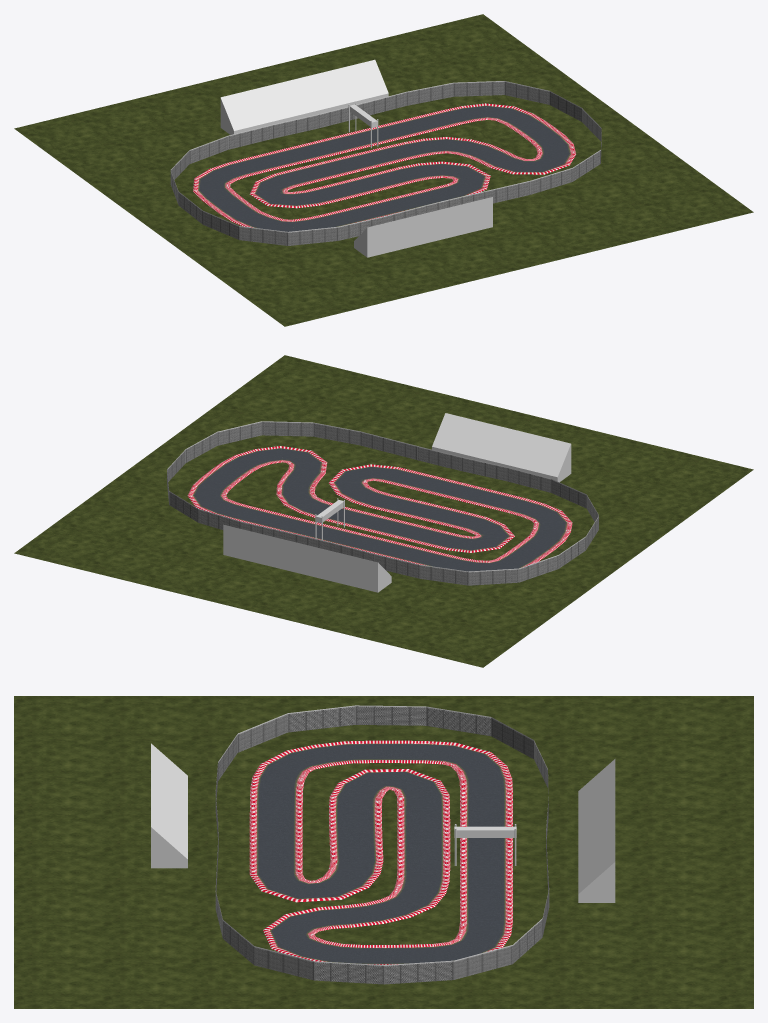
File: RaceTrack.fbx
The picture shows the model from 3 angles, top to bottom: view 1: azimuth 30°, elevation 25°; view 2: azimuth 150°, elevation 25°; view 3: azimuth 270°, elevation 25°; orthographic projection. The views are drawn at different scales.
Visible parts, largest first — view 1: Plane, Plane.001, Plane.002, Cube, Cube.001; view 2: Plane, Plane.001, Plane.002, Cube.001, Cube; view 3: Plane, Plane.001, Plane.002, Cube, Cube.001, Cube.002.
Part boxes in pixels (x1=…): Plane: x1=14, y1=14, x2=753, y2=326; Plane.001: x1=193, y1=103, x2=575, y2=231; Plane.002: x1=170, y1=81, x2=601, y2=245; Cube: x1=220, y1=59, x2=388, y2=134; Cube.001: x1=354, y1=197, x2=492, y2=257; Plane: x1=14, y1=355, x2=753, y2=667; Plane.001: x1=187, y1=446, x2=572, y2=571; Plane.002: x1=167, y1=421, x2=598, y2=585; Cube.001: x1=432, y1=413, x2=571, y2=482; Cube: x1=223, y1=524, x2=391, y2=592; Plane: x1=14, y1=696, x2=753, y2=1008; Plane.001: x1=249, y1=740, x2=512, y2=964; Plane.002: x1=215, y1=705, x2=549, y2=984; Cube: x1=578, y1=759, x2=615, y2=902; Cube.001: x1=151, y1=743, x2=187, y2=868; Cube.002: x1=454, y1=826, x2=516, y2=837.
Size of the model in its own units: 1310 by 83.92 by 1310.
